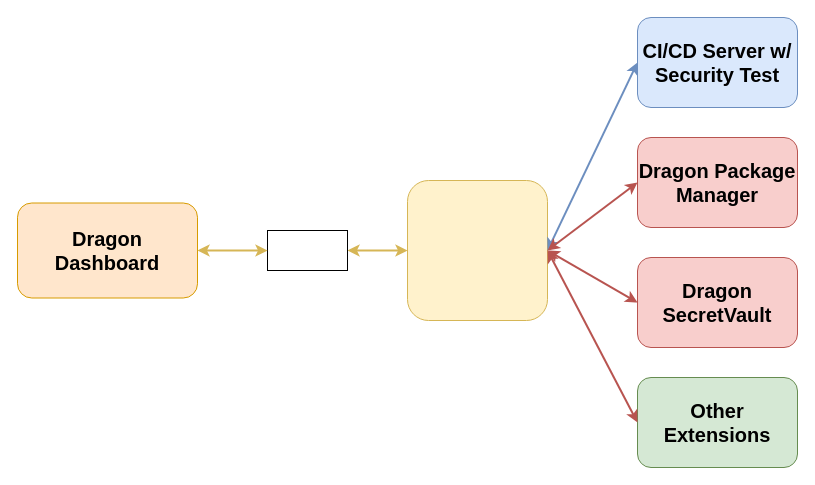
Some shapes in this 815 by 485 pixel diagram are drawn without their labels. Here are the shapes that lost their labels. From the top down, the centre of each, then its label:
At point (307, 250): "Dragon API".
At point (477, 250): "Dragon Weakness Manager".
